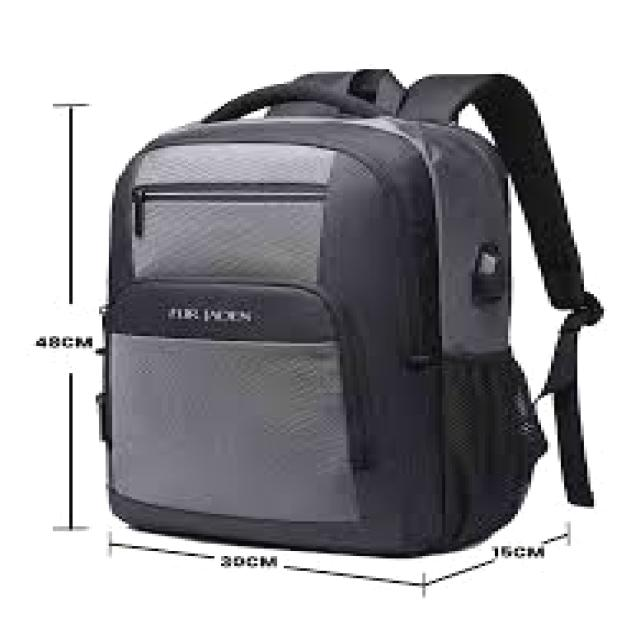backpack: (93, 68, 605, 558)
